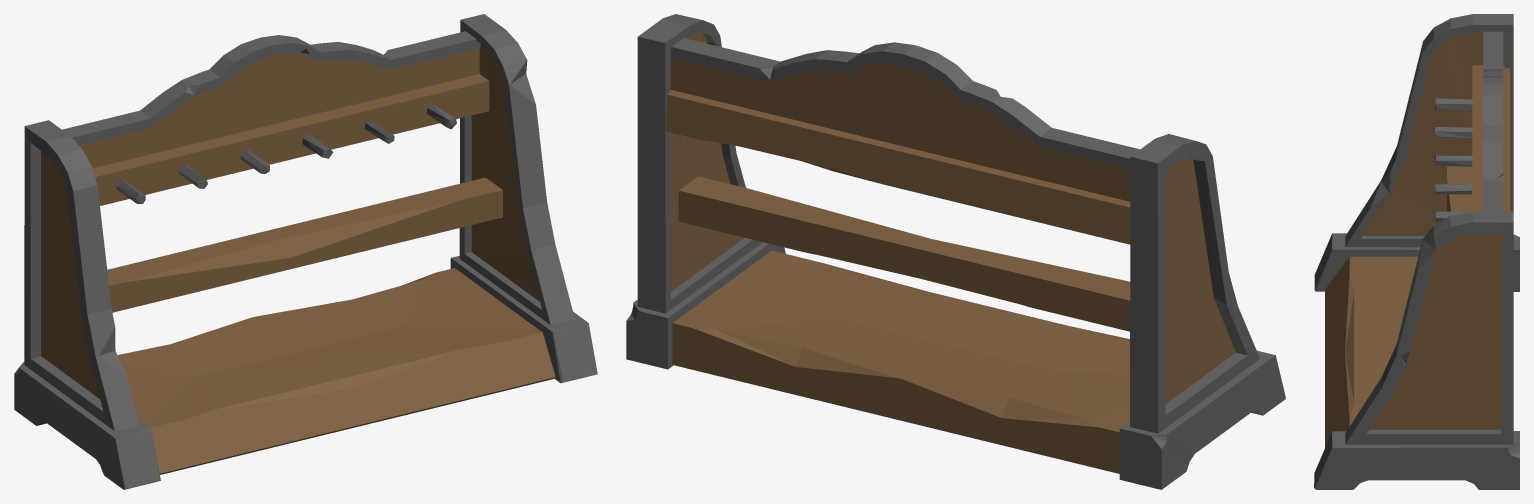
The model's file is WeaponRack.004.fbx.
3 views of the same model, side by side, from view 1: azimuth 30°, elevation 25°; view 2: azimuth 150°, elevation 25°; view 3: azimuth 270°, elevation 25° (orthographic). The views are drawn at different scales.
Visible parts, largest first — view 1: WeaponRack.004; view 2: WeaponRack.004; view 3: WeaponRack.004.
Boxes of the visible parts, x1=… form: WeaponRack.004: x1=14, y1=14, x2=597, y2=489; WeaponRack.004: x1=626, y1=14, x2=1285, y2=489; WeaponRack.004: x1=1314, y1=14, x2=1519, y2=489.
Bounding box in the file's own units: 141 × 91.26 × 57.12.
